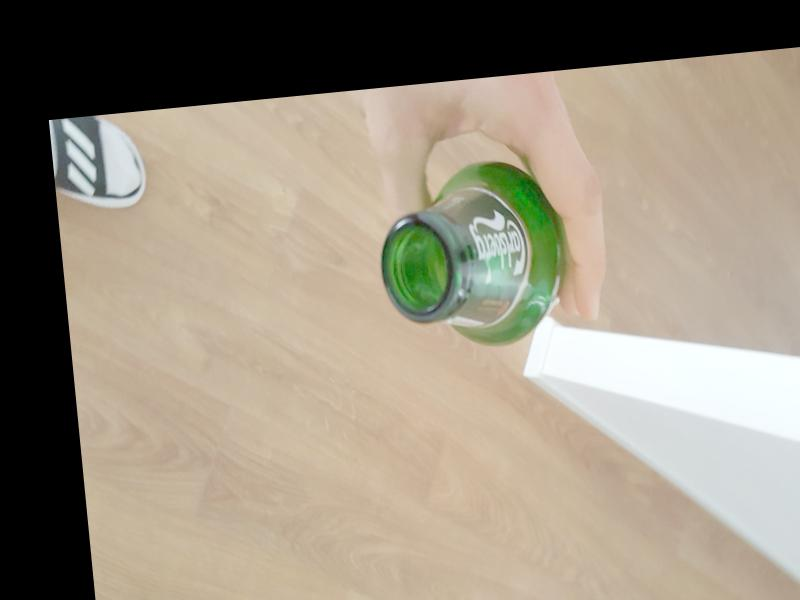Beer: (371, 151, 573, 357)
